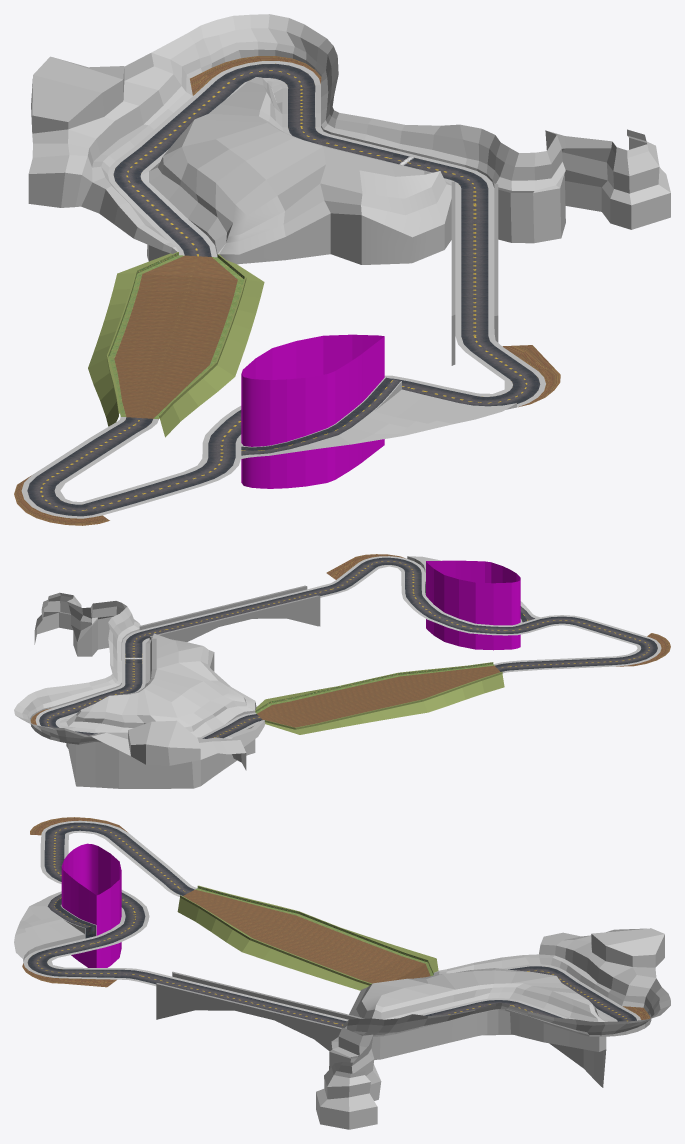
File: Track_01.fbx
The picture shows the model from 3 angles, top to bottom: view 1: azimuth 30°, elevation 25°; view 2: azimuth 150°, elevation 25°; view 3: azimuth 270°, elevation 25°; orthographic projection. The views are drawn at different scales.
Visible parts, largest first — view 1: track, corner_1_right, corner_1_left, col_shortcut_jump, bridge; view 2: track, corner_1_left, corner_1_right, col_shortcut_jump, bridge; view 3: track, corner_1_right, corner_1_left, col_shortcut_jump, bridge.
Part boxes in pixels (x1=…): track: x1=14, y1=56, x2=560, y2=525; corner_1_right: x1=28, y1=14, x2=670, y2=253; corner_1_left: x1=147, y1=77, x2=451, y2=264; col_shortcut_jump: x1=241, y1=334, x2=384, y2=488; bridge: x1=451, y1=181, x2=498, y2=365; track: x1=30, y1=554, x2=670, y2=738; corner_1_left: x1=66, y1=633, x2=256, y2=788; corner_1_right: x1=14, y1=592, x2=265, y2=770; col_shortcut_jump: x1=426, y1=560, x2=520, y2=650; bridge: x1=139, y1=585, x2=320, y2=641; track: x1=14, y1=817, x2=650, y2=1027; corner_1_right: x1=316, y1=928, x2=670, y2=1129; corner_1_left: x1=349, y1=968, x2=606, y2=1087; col_shortcut_jump: x1=61, y1=843, x2=121, y2=967; bridge: x1=156, y1=971, x2=364, y2=1050.
Bounding box in the file's own units: 247 × 46.45 × 235.
